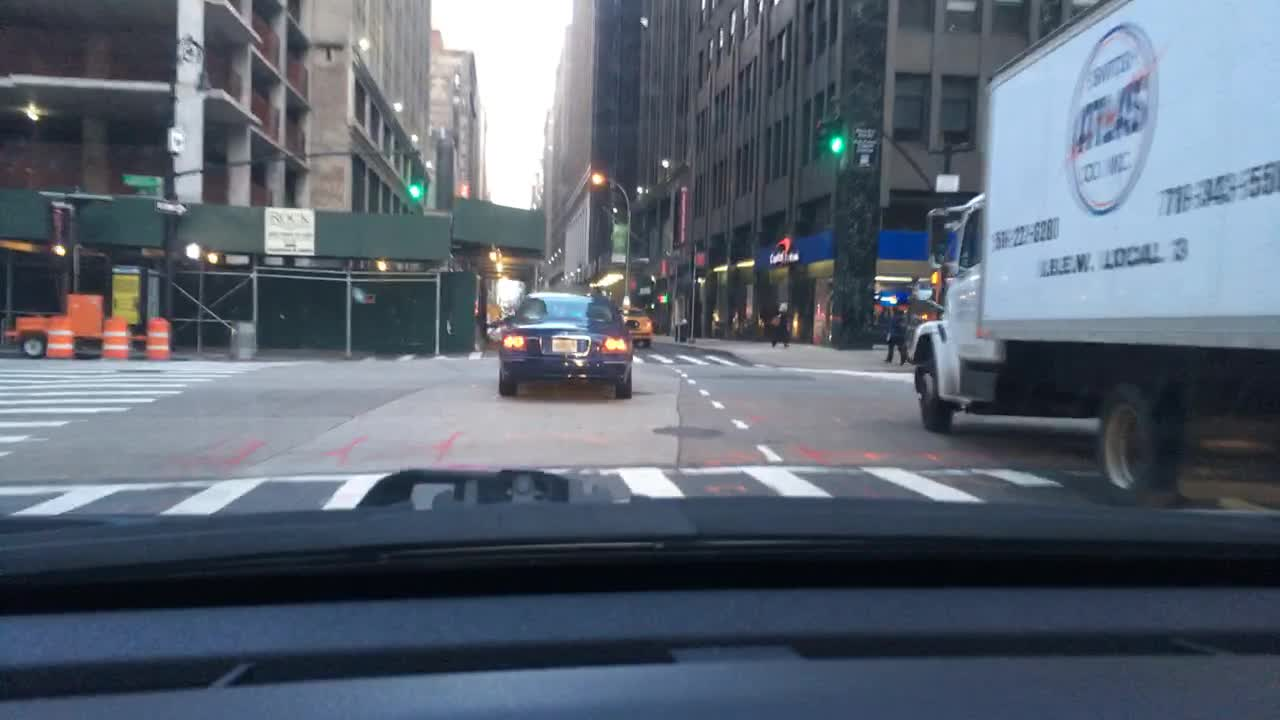car: (500, 290, 635, 399), (616, 293, 655, 347)
person: (887, 297, 913, 362), (770, 299, 793, 343)
traffic light: (827, 118, 842, 156), (409, 164, 423, 202), (180, 241, 202, 259), (928, 268, 942, 287)
traffic sign: (151, 196, 189, 217), (936, 171, 960, 196), (122, 171, 165, 184)
truck: (911, 0, 1280, 494)
